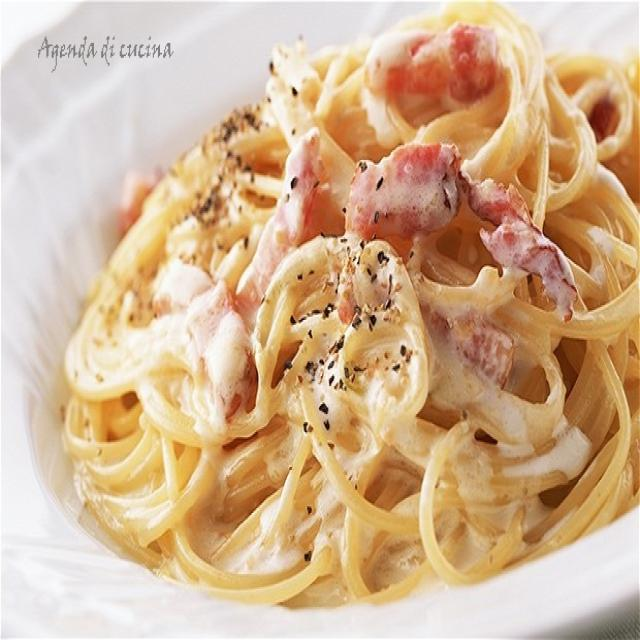Pasta with carbonara sauce: (123, 59, 607, 575)
